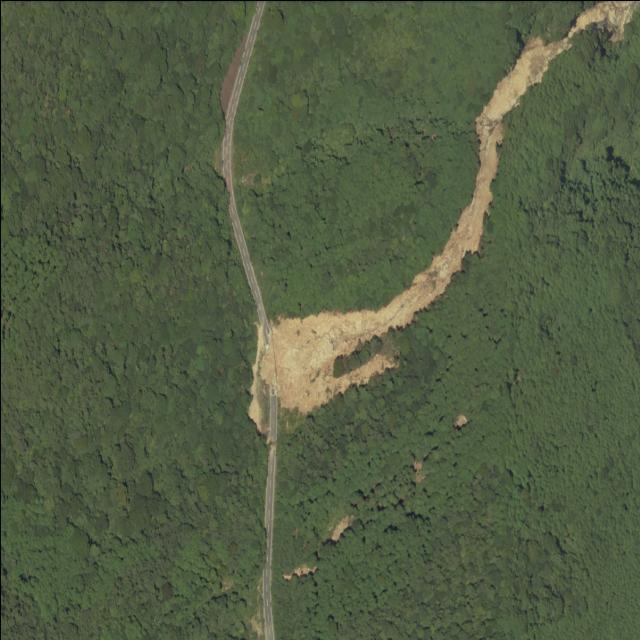landslide: (247, 0, 638, 432)
